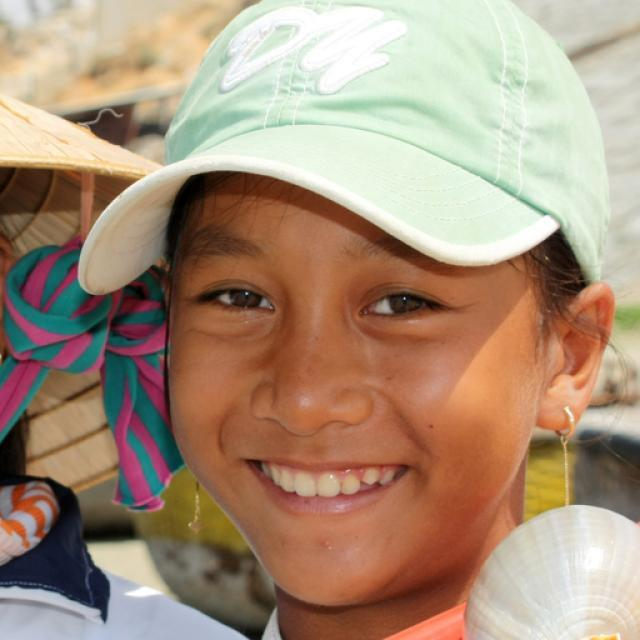happy: (168, 138, 542, 610)
